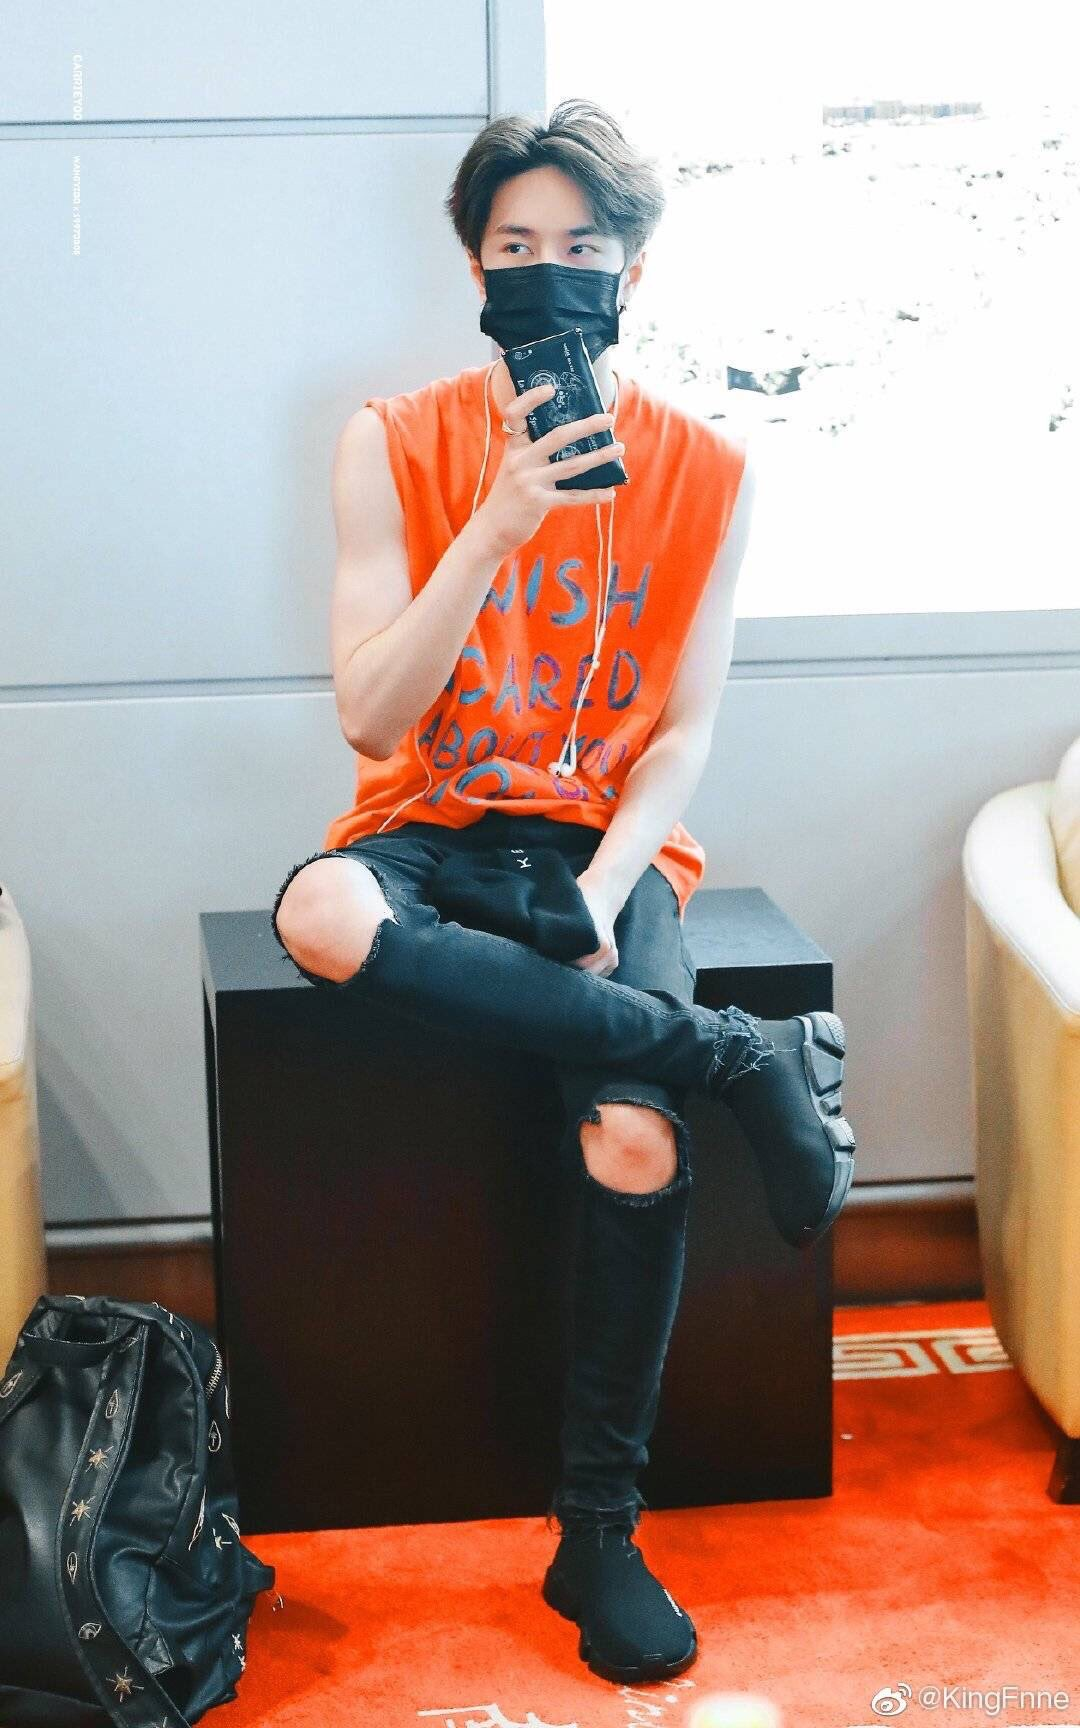backpack: (2, 1284, 270, 1724)
people: (276, 92, 876, 1700)
